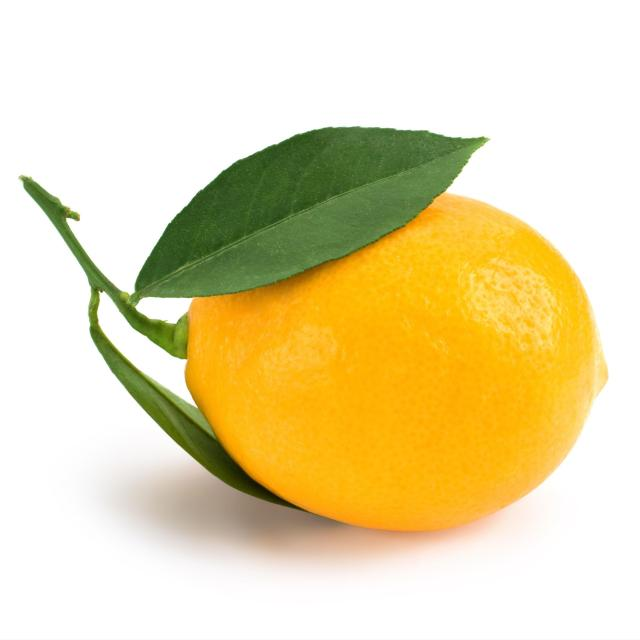lemon: (178, 182, 616, 540)
